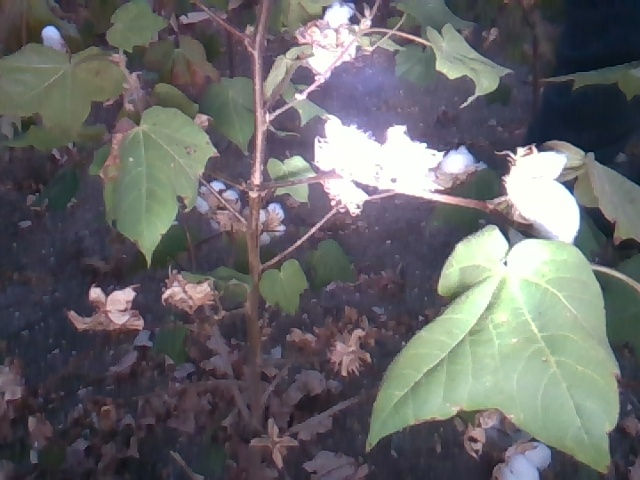cotton: (497, 147, 580, 246), (374, 123, 480, 197), (315, 112, 384, 213), (304, 1, 363, 87), (484, 441, 554, 478), (196, 182, 240, 230), (245, 202, 289, 245), (32, 23, 67, 66)
